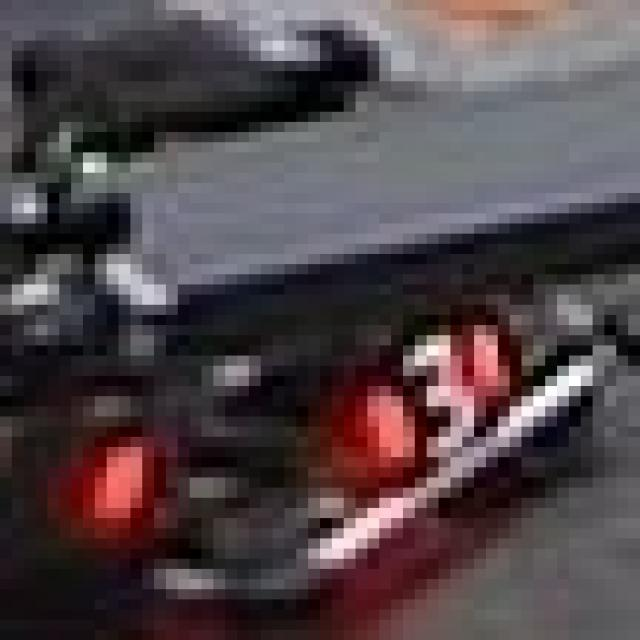R3: (356, 315, 510, 457)
